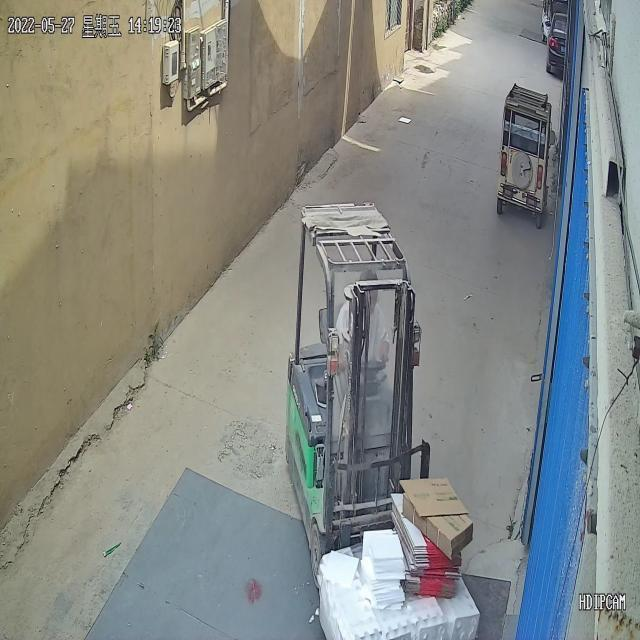forklift: (287, 207, 422, 512)
